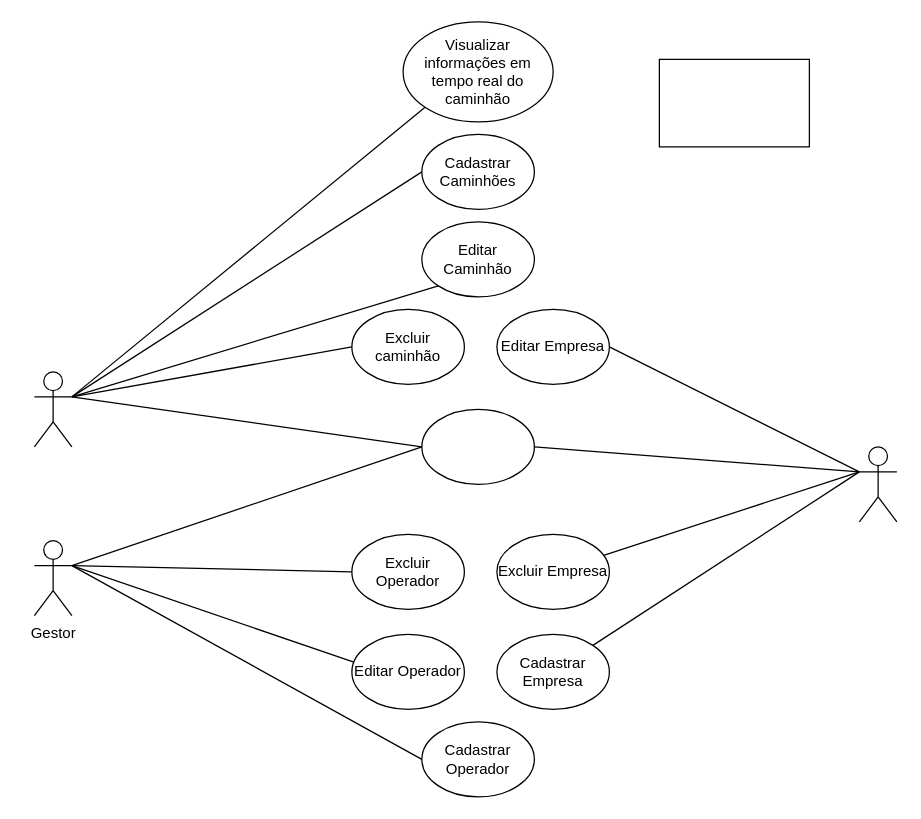
Image size: 921x819. Some labels were removed from this diagram. The shapes that lost their labels are listed below. From the top down, each one's box as (x1, y1, x2, y2) in pixels, then its label:
(658, 58, 809, 147): Todos casos de uso possuem <<include>> com o caso de uso do Login
(33, 371, 72, 447): Operador
(421, 408, 534, 484): Logar Usuário
(858, 446, 897, 522): Admin
